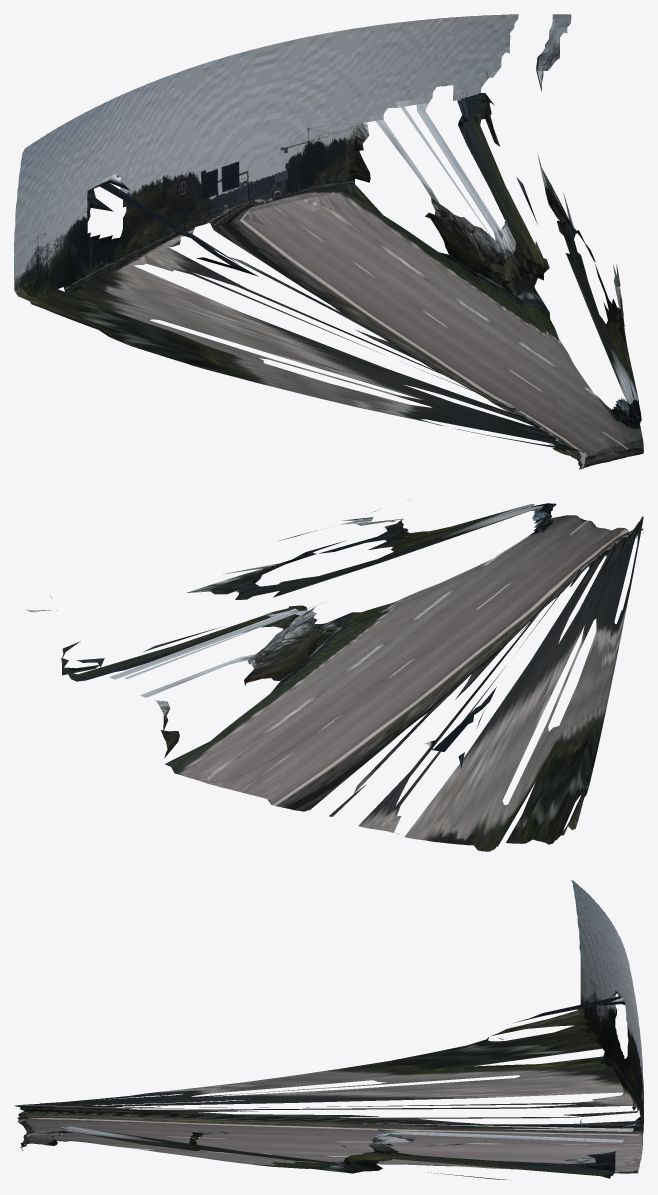
3 renders of one model, top to bottom at view 1: azimuth 30°, elevation 25°; view 2: azimuth 150°, elevation 25°; view 3: azimuth 270°, elevation 25°, orthographic. The views are drawn at different scales.
Parts seen in each view (by area): view 1: defaultobject; view 2: defaultobject; view 3: defaultobject.
Boxes of the visible parts, <box> form: defaultobject: <box>14,14,643,469</box>; defaultobject: <box>26,503,643,851</box>; defaultobject: <box>15,880,643,1180</box>.
Size of the model in its own units: 40.45 by 13.04 by 44.82.
1 material, 1 textured.
